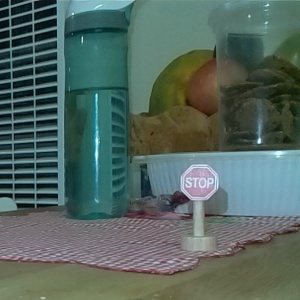stop sign: (176, 161, 223, 254)
